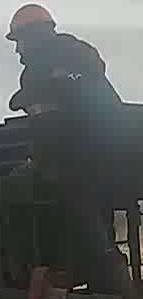helmet: (6, 1, 57, 40)
vest: (15, 34, 128, 181)
